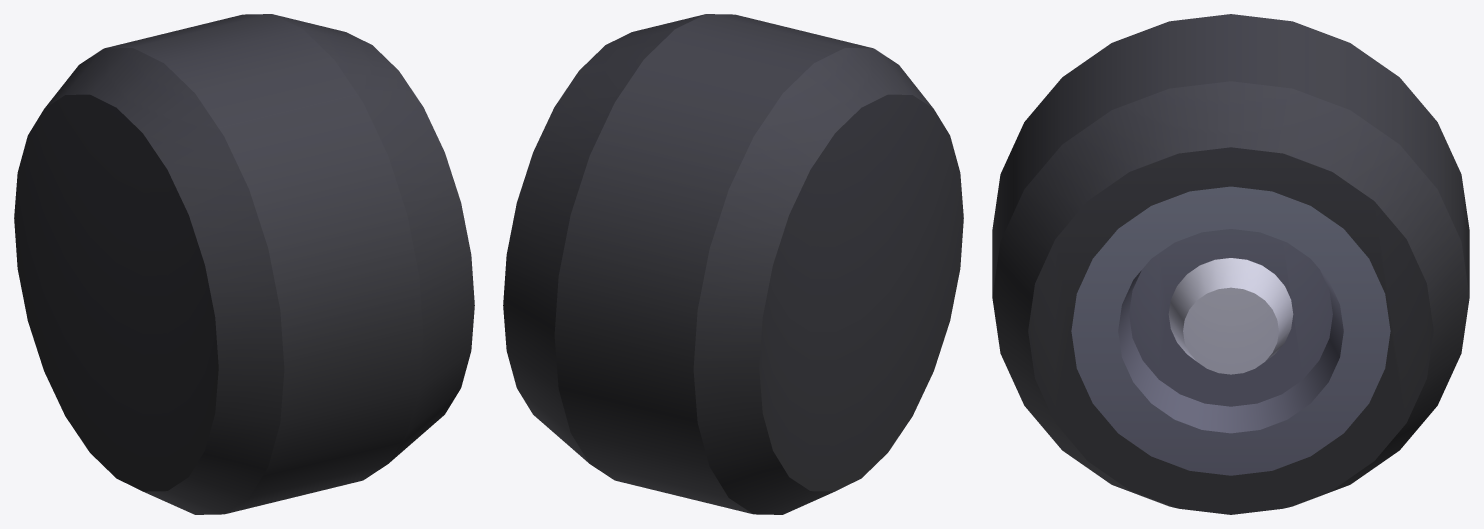
The model's file is wheel-tractor-dark-back.fbx.
3 views of the same model, side by side, from view 1: azimuth 30°, elevation 25°; view 2: azimuth 150°, elevation 25°; view 3: azimuth 270°, elevation 25° (orthographic).
Parts seen in each view (by area): view 1: wheel-tractor-dark-back; view 2: wheel-tractor-dark-back; view 3: wheel-tractor-dark-back.
Boxes of the visible parts, x1,y1,x2,y2 form: wheel-tractor-dark-back: (14,14,474,514); wheel-tractor-dark-back: (503,14,963,514); wheel-tractor-dark-back: (992,14,1469,514).
Bounding box in the file's own units: 53.76 × 87.52 × 87.52.
Materials: 1 (1 with a texture image).
